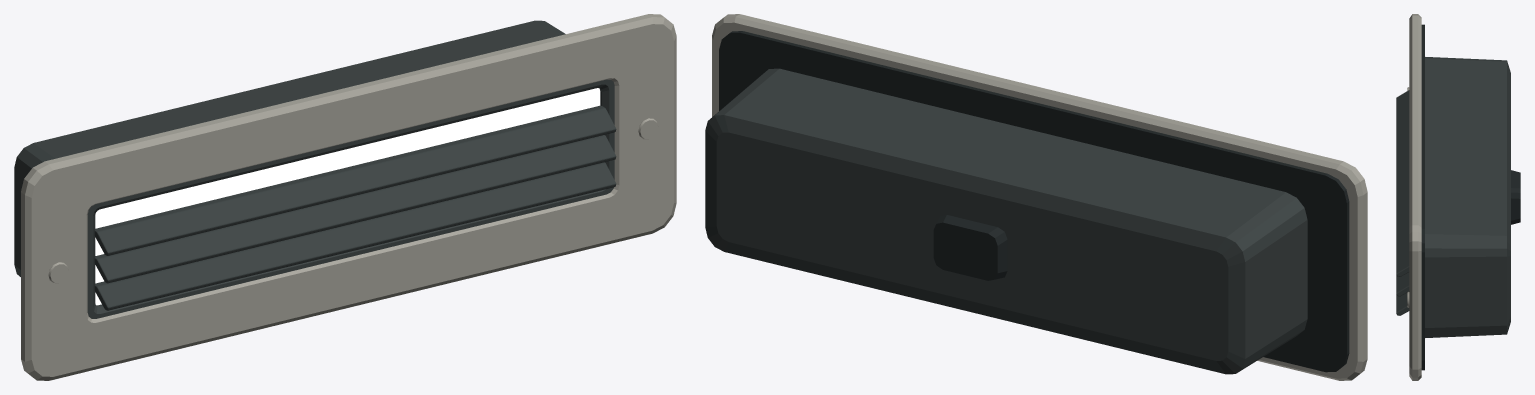
The picture shows the model from 3 angles, left to right: view 1: azimuth 30°, elevation 25°; view 2: azimuth 150°, elevation 25°; view 3: azimuth 270°, elevation 25°; orthographic projection. The views are drawn at different scales.
Visible parts, largest first — view 1: Fixture; view 2: Fixture; view 3: Fixture.
Part boxes in pixels (x1,y1,x2,y2): Fixture: [14, 14, 676, 380]; Fixture: [705, 14, 1367, 380]; Fixture: [1396, 14, 1520, 380].
Size of the model in its own units: 0.274 by 0.087 by 0.0638.
